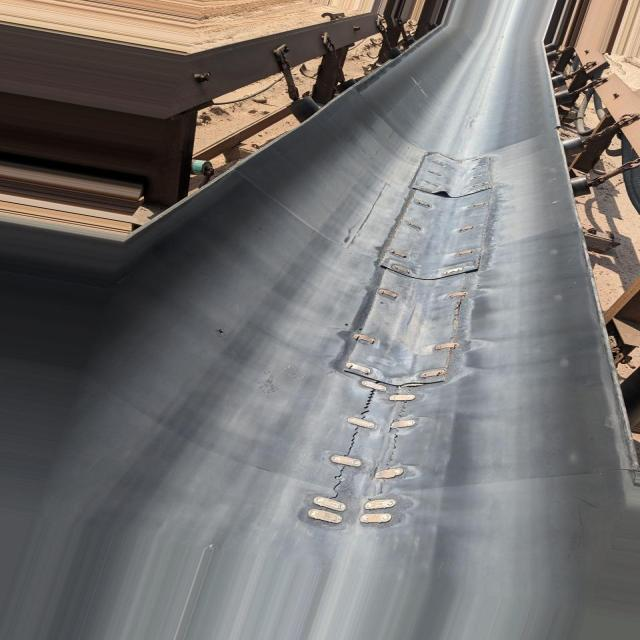patch work: (303, 151, 494, 527)
